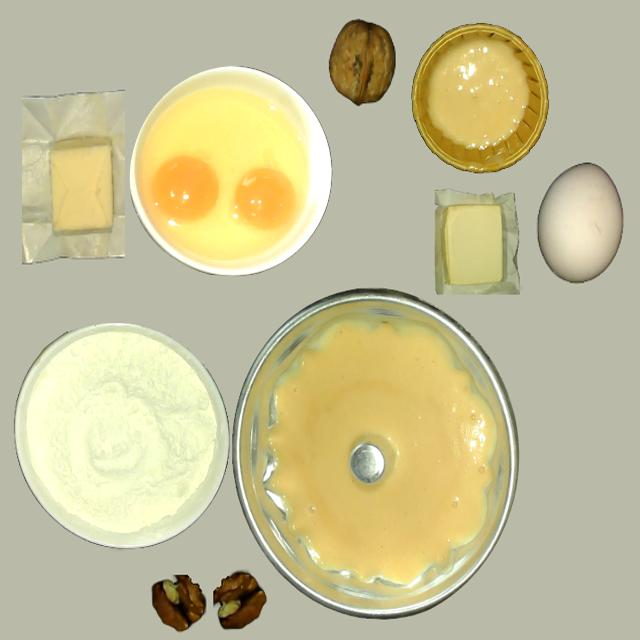Egg: (151, 155, 219, 222), (234, 168, 294, 229)
Flour: (17, 322, 228, 550)
Walnut: (328, 20, 394, 106)
